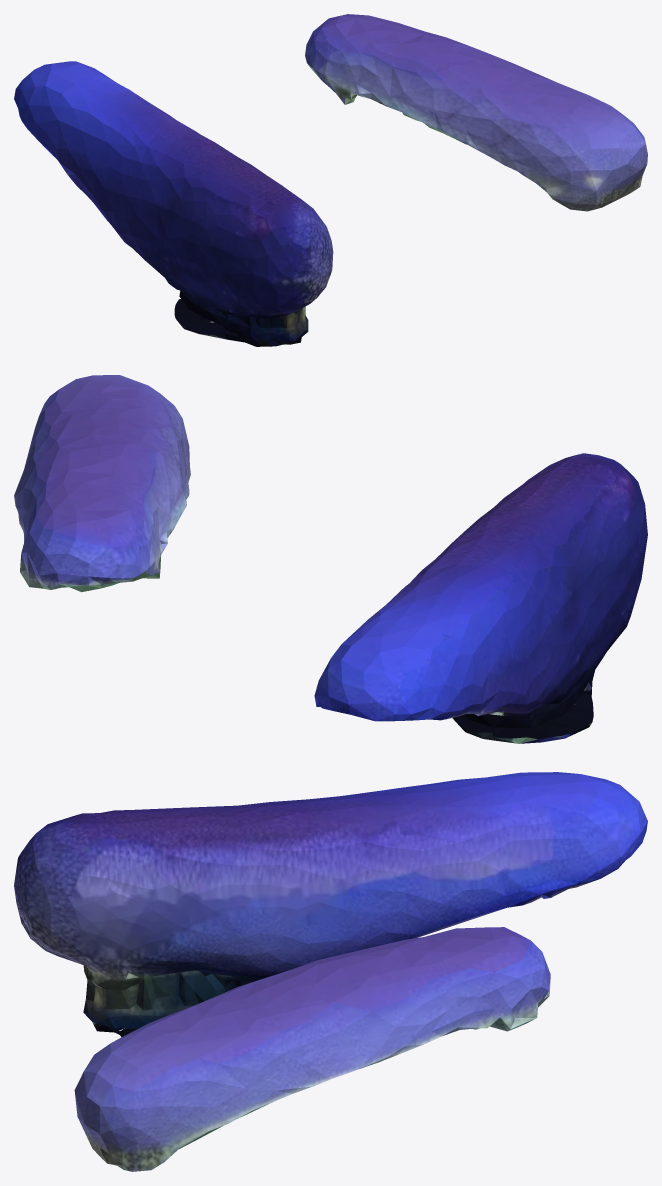
File: hotel_w.glb
3 views of the same model, one above another, from view 1: azimuth 30°, elevation 25°; view 2: azimuth 150°, elevation 25°; view 3: azimuth 270°, elevation 25° (orthographic). The views are drawn at different scales.
Visible parts, largest first — view 1: tmpyhdix_f0.ply; view 2: tmpyhdix_f0.ply; view 3: tmpyhdix_f0.ply.
Boxes of the visible parts, <box> form: tmpyhdix_f0.ply: <box>14,14,647,346</box>; tmpyhdix_f0.ply: <box>14,375,647,743</box>; tmpyhdix_f0.ply: <box>14,772,647,1171</box>.
Size of the model in its own units: 1.99 by 0.7028 by 1.78.
1 material, 1 textured.
